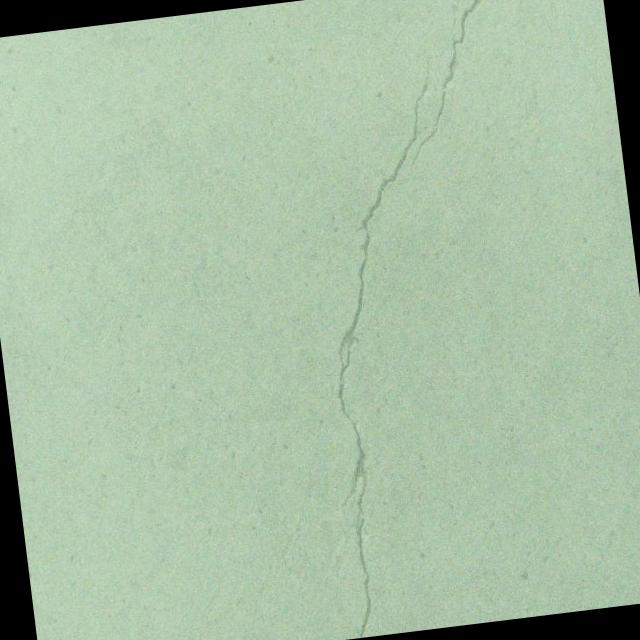crack: (286, 41, 520, 638), (385, 0, 508, 181), (435, 109, 456, 136)
